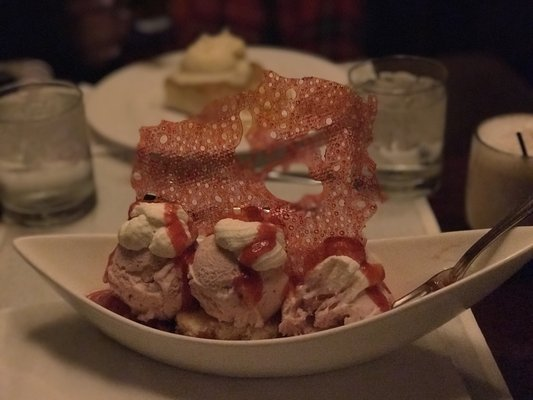sushi: (9, 72, 445, 380)
